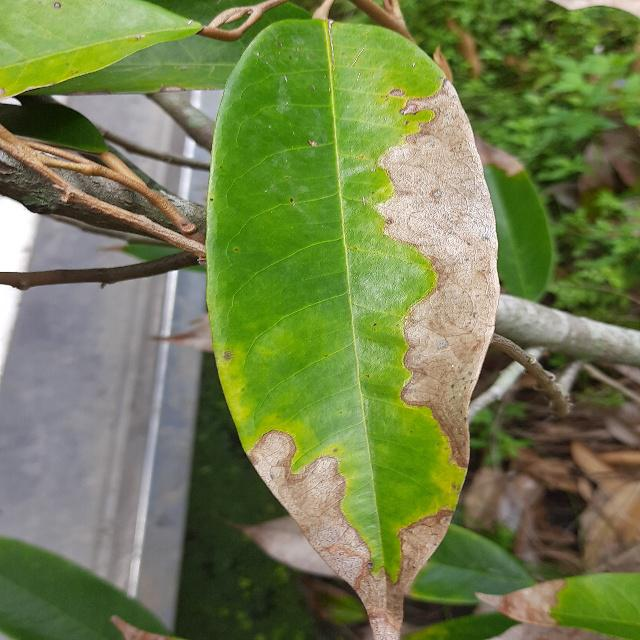Leaf Blight: (199, 7, 508, 639)
